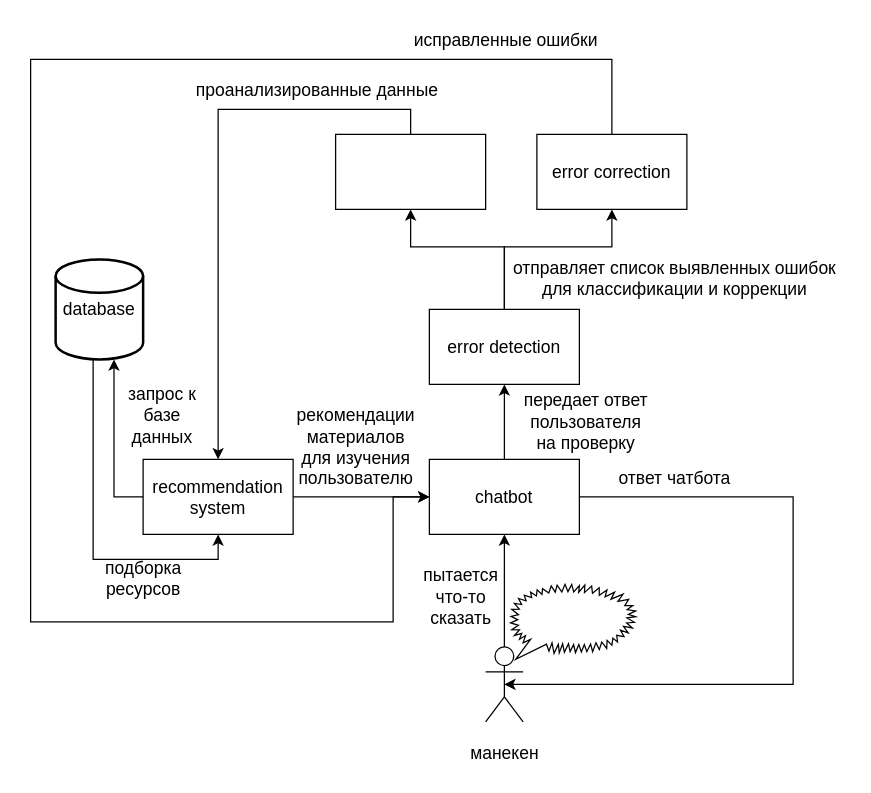
The diagram is 871 pixels wide and 793 high, and some of its shapes have lost their labels. Here are the shapes that lost their labels. From the top down, the centre of each, then its label:
At point (410, 171): "error classification".
At point (572, 621): "я могу говорить".
At point (503, 684): "Actor".
